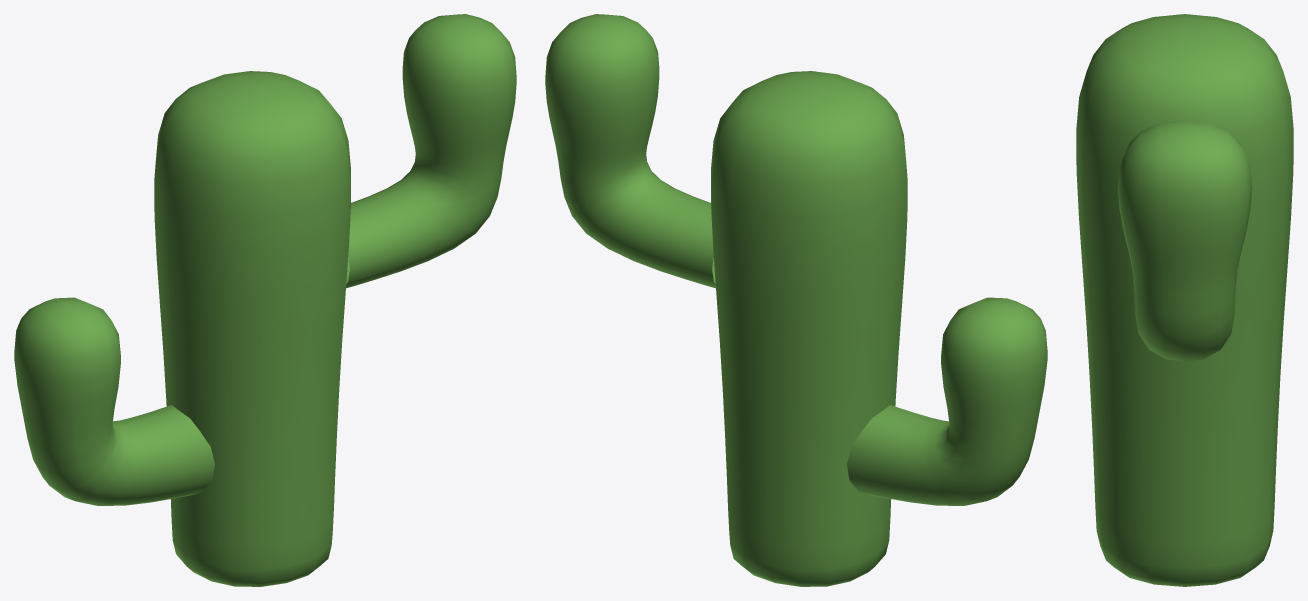
The model's file is cactus.fbx.
3 views of the same model, side by side, from view 1: azimuth 30°, elevation 25°; view 2: azimuth 150°, elevation 25°; view 3: azimuth 270°, elevation 25° (orthographic). The views are drawn at different scales.
Visible parts, largest first — view 1: cactus; view 2: cactus; view 3: cactus.
Part boxes in pixels (box(x1,y1,x2,y2)): cactus: box(14, 14, 516, 586); cactus: box(545, 14, 1047, 586); cactus: box(1076, 14, 1293, 586).
Size of the model in its own units: 244 by 237 by 85.14.
